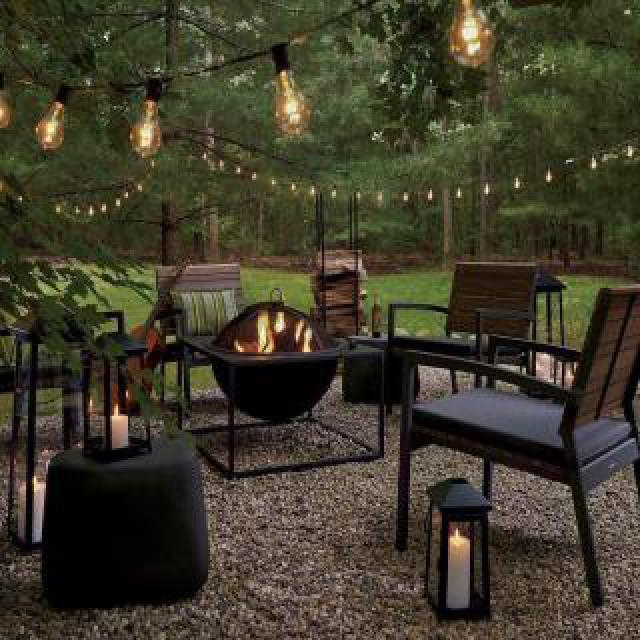Fire: (232, 305, 324, 358)
